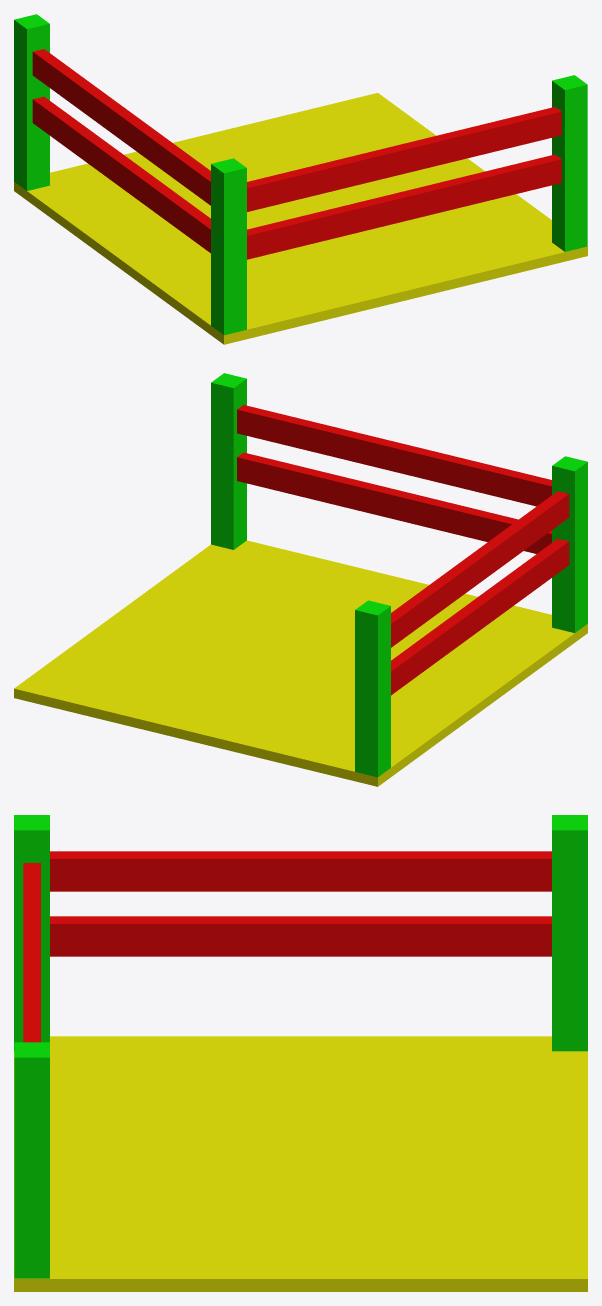
Rendered from WalkwayH_SM (3).fbx.
The picture shows the model from 3 angles, top to bottom: view 1: azimuth 30°, elevation 25°; view 2: azimuth 150°, elevation 25°; view 3: azimuth 270°, elevation 25°; orthographic projection. The views are drawn at different scales.
Parts seen in each view (by area): view 1: polySurface41; view 2: polySurface41; view 3: polySurface41.
Boxes of the visible parts, left/top/right/bottom form: polySurface41: left=14, top=14, right=587, bottom=344; polySurface41: left=14, top=373, right=587, bottom=786; polySurface41: left=14, top=815, right=587, bottom=1291.
Size of the model in its own units: 8 by 3.6 by 8.
